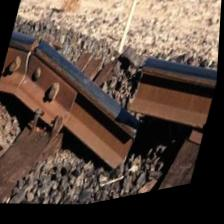person: (1, 24, 60, 99)
